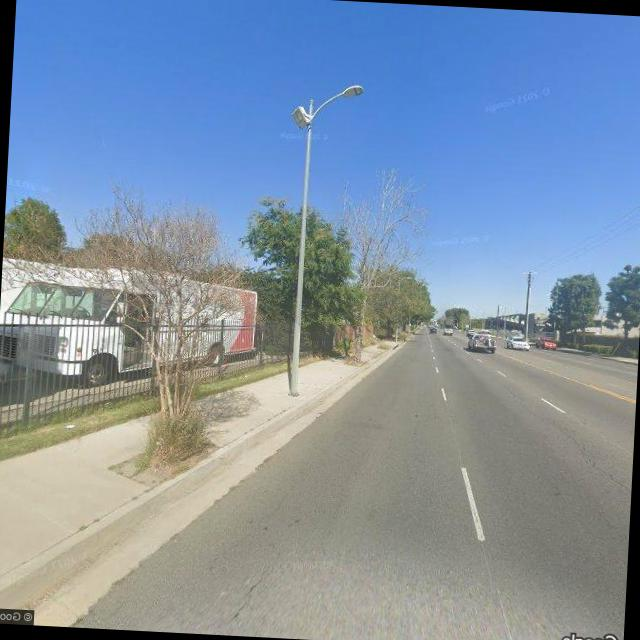pothole: (534, 412, 631, 484)
